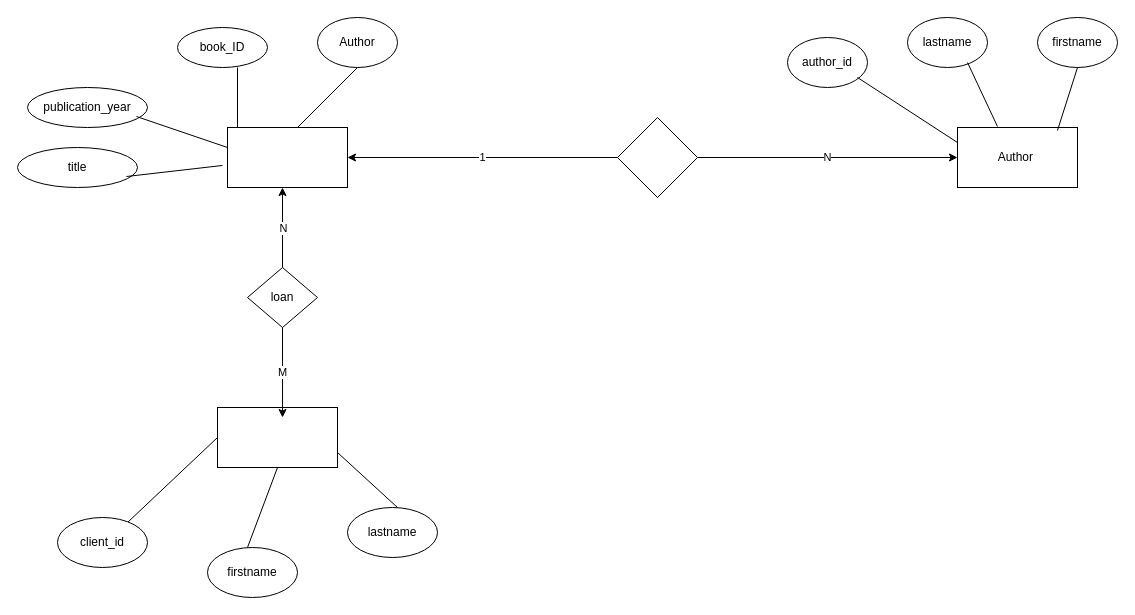
This 1135x615 diagram has some shape labels left out. The shapes that lost their labels are listed below. From the top down, each one's centre as x and y in pixels, then its label:
At point (287, 157): "Book".
At point (657, 157): "book_author".
At point (277, 437): "client".
